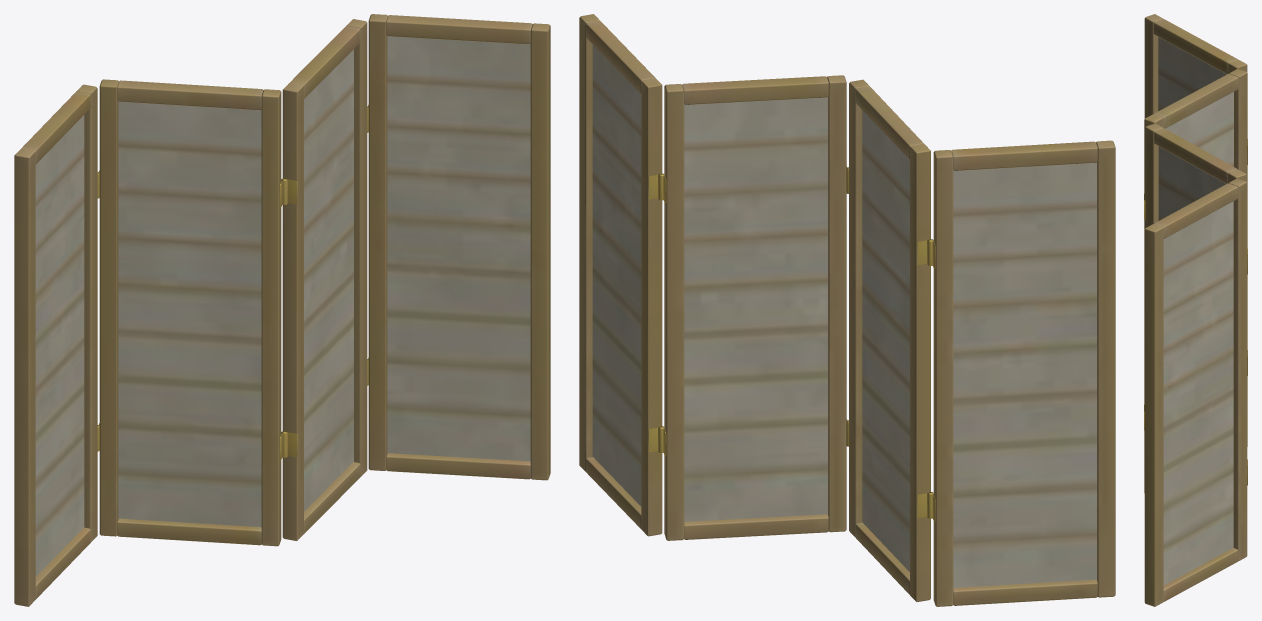
3 views of the same model, side by side, from view 1: azimuth 30°, elevation 25°; view 2: azimuth 150°, elevation 25°; view 3: azimuth 270°, elevation 25° (orthographic). The views are drawn at different scales.
Bounding box in the file's own units: 19.9 × 16 × 4.01.
1 material, 1 textured.
